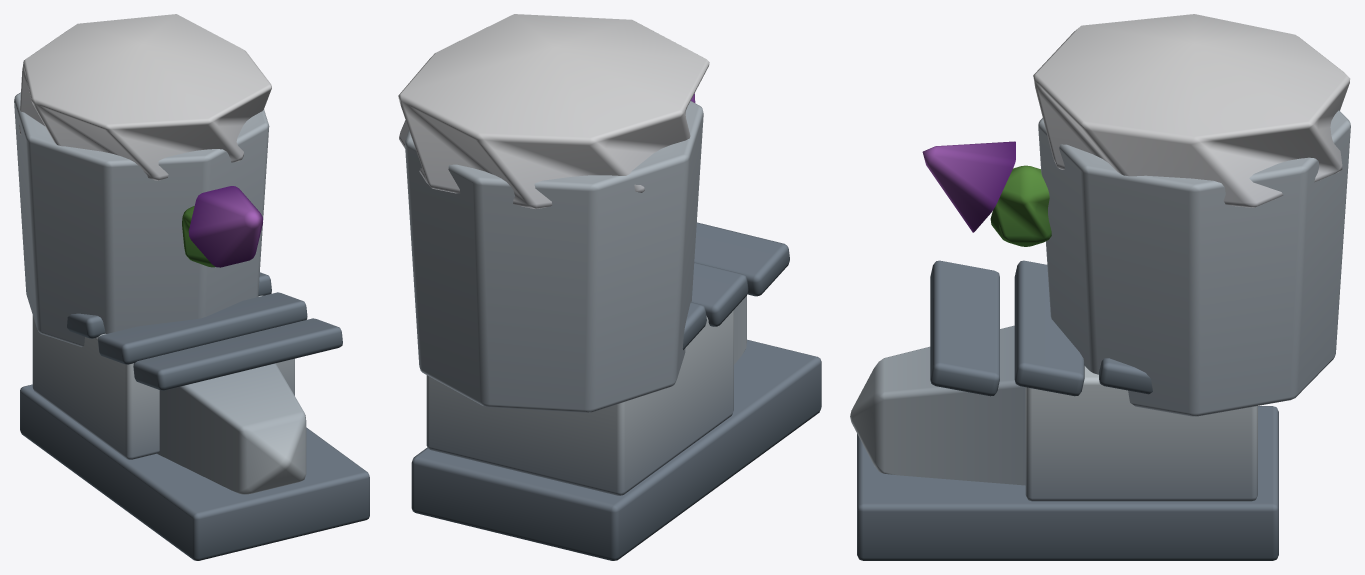
File: lg_thistledown_socks.glb
3 renders of one model, left to right at view 1: azimuth 30°, elevation 25°; view 2: azimuth 150°, elevation 25°; view 3: azimuth 270°, elevation 25°, orthographic. The views are drawn at different scales.
Parts seen in each view (by area): view 1: lg_thistledown_socks; view 2: lg_thistledown_socks; view 3: lg_thistledown_socks.
Part boxes in pixels (x1=…): lg_thistledown_socks: x1=14, y1=14, x2=369, y2=560; lg_thistledown_socks: x1=398, y1=14, x2=821, y2=560; lg_thistledown_socks: x1=850, y1=14, x2=1350, y2=560.
Size of the model in its own units: 0.5932 by 0.98 by 0.95.
